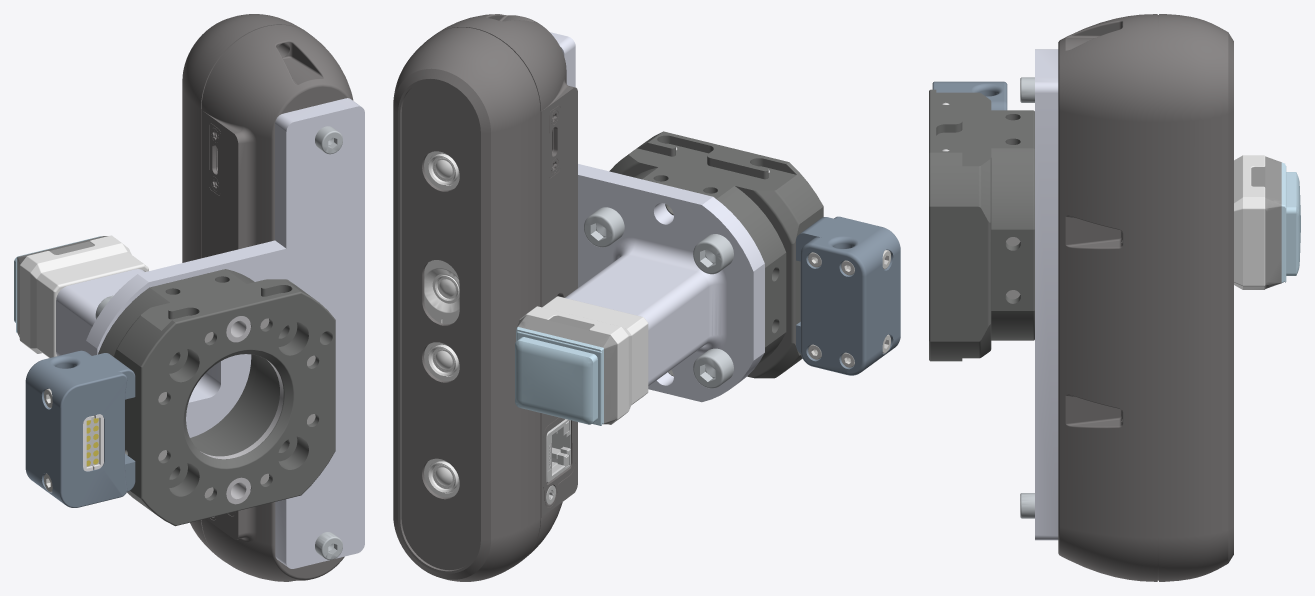
File: gelsight_vision.glb
The picture shows the model from 3 angles, left to right: view 1: azimuth 30°, elevation 25°; view 2: azimuth 150°, elevation 25°; view 3: azimuth 270°, elevation 25°; orthographic projection. The views are drawn at different scales.
Parts seen in each view (by area): view 1: Lower Assembly; view 2: Lower Assembly; view 3: Lower Assembly.
Boxes of the visible parts, bbox=[...] form: Lower Assembly: bbox=[14, 14, 364, 581]; Lower Assembly: bbox=[393, 14, 900, 581]; Lower Assembly: bbox=[929, 14, 1300, 581].
Bounding box in the file's own units: 0.1227 × 0.1671 × 0.1017.
1 material, 1 textured.
